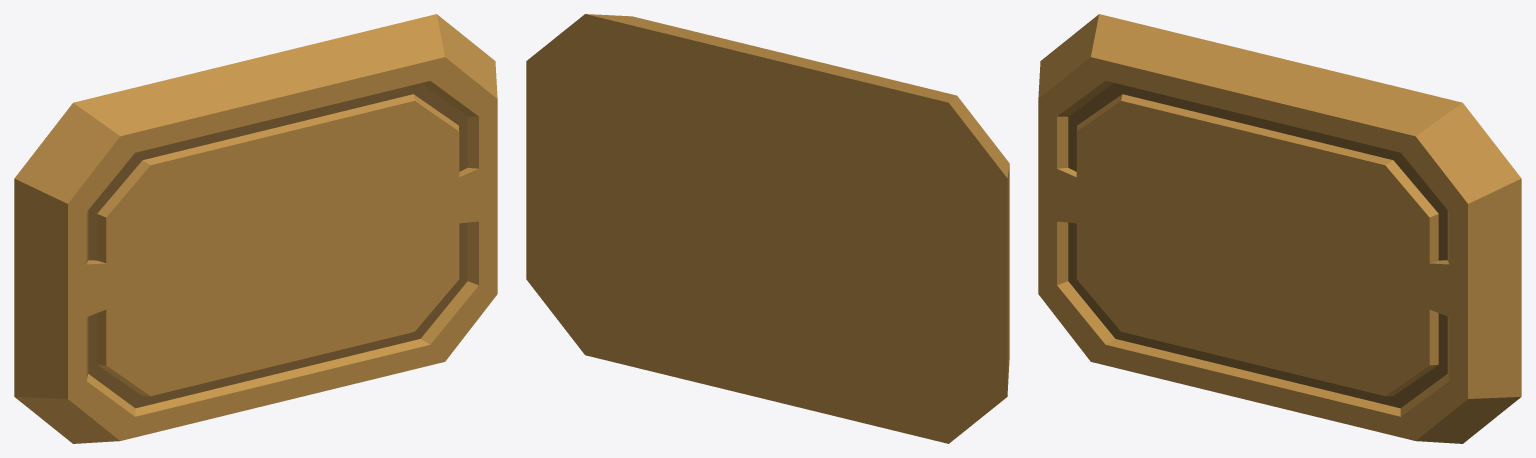
File: Details_Basic_4.gltf
3 views of the same model, side by side, from view 1: azimuth 30°, elevation 25°; view 2: azimuth 150°, elevation 25°; view 3: azimuth 330°, elevation 25° (orthographic).
Visible parts, largest first — view 1: Details_Basic_4; view 2: Details_Basic_4; view 3: Details_Basic_4.
Part boxes in pixels (x1=…): Details_Basic_4: x1=14, y1=14, x2=497, y2=443; Details_Basic_4: x1=526, y1=14, x2=1009, y2=443; Details_Basic_4: x1=1038, y1=14, x2=1521, y2=443.
Bounding box in the file's own units: 0.6795 × 0.4605 × 0.068.
